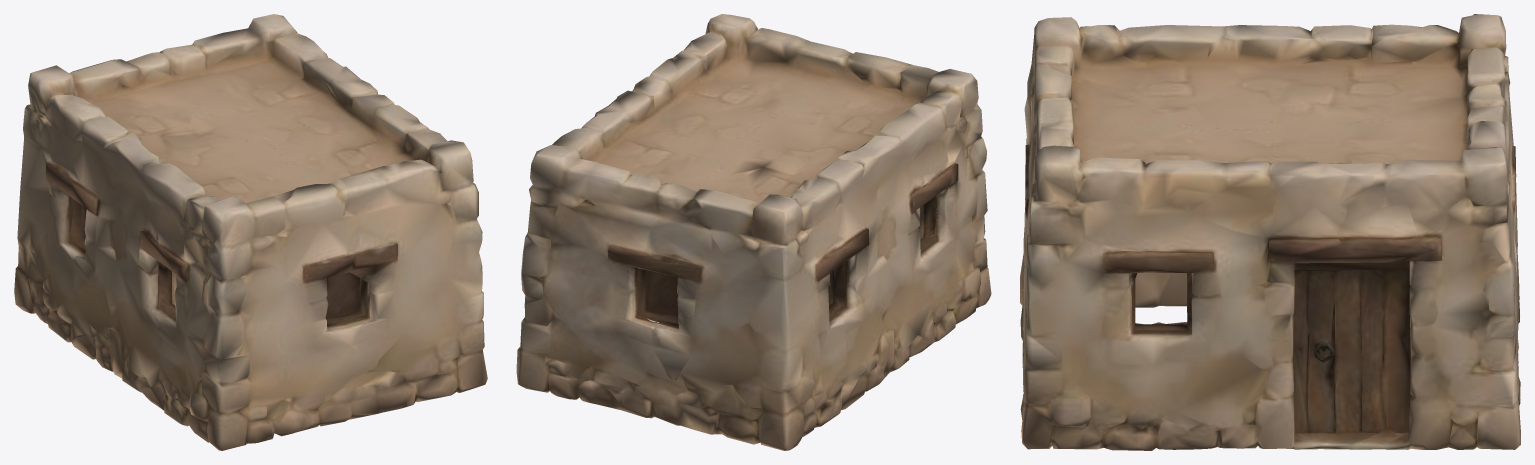
The model's file is house-01-tripo-v2.glb.
3 views of the same model, side by side, from view 1: azimuth 30°, elevation 25°; view 2: azimuth 150°, elevation 25°; view 3: azimuth 270°, elevation 25° (orthographic). The views are drawn at different scales.
Visible parts, largest first — view 1: tripo_node_ea9dc221-7ed0-4d46-8b67-2300c3f712eb; view 2: tripo_node_ea9dc221-7ed0-4d46-8b67-2300c3f712eb; view 3: tripo_node_ea9dc221-7ed0-4d46-8b67-2300c3f712eb.
Part boxes in pixels (x1,y1,x2,y2): tripo_node_ea9dc221-7ed0-4d46-8b67-2300c3f712eb: [14, 14, 487, 450]; tripo_node_ea9dc221-7ed0-4d46-8b67-2300c3f712eb: [516, 14, 991, 450]; tripo_node_ea9dc221-7ed0-4d46-8b67-2300c3f712eb: [1020, 14, 1520, 450].
Size of the model in its own units: 0.7671 by 0.6259 by 0.9978.
Materials: 1 (1 with a texture image).
